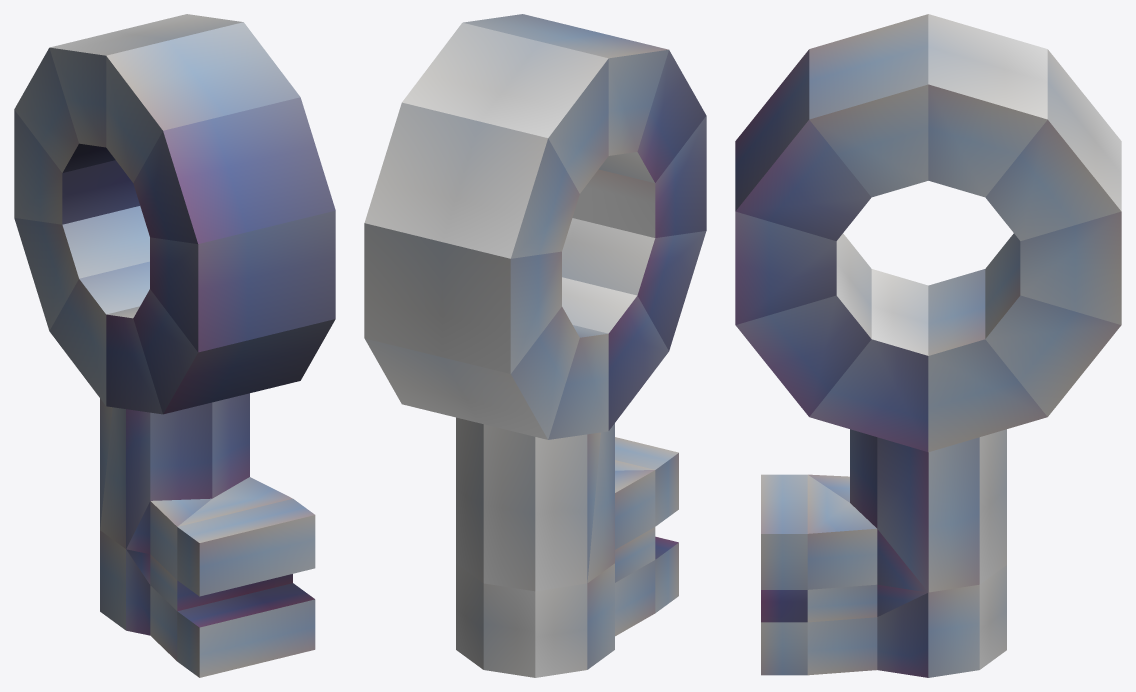
Rendered from key03.fbx.
3 renders of one model, left to right at view 1: azimuth 30°, elevation 25°; view 2: azimuth 150°, elevation 25°; view 3: azimuth 270°, elevation 25°, orthographic. The views are drawn at different scales.
Visible parts, largest first — view 1: key03; view 2: key03; view 3: key03.
Part boxes in pixels (<box>): key03: <box>14,14,335,677</box>; key03: <box>364,14,706,677</box>; key03: <box>735,14,1121,677</box>.
Bounding box in the file's own units: 27.12 × 107 × 62.82.
